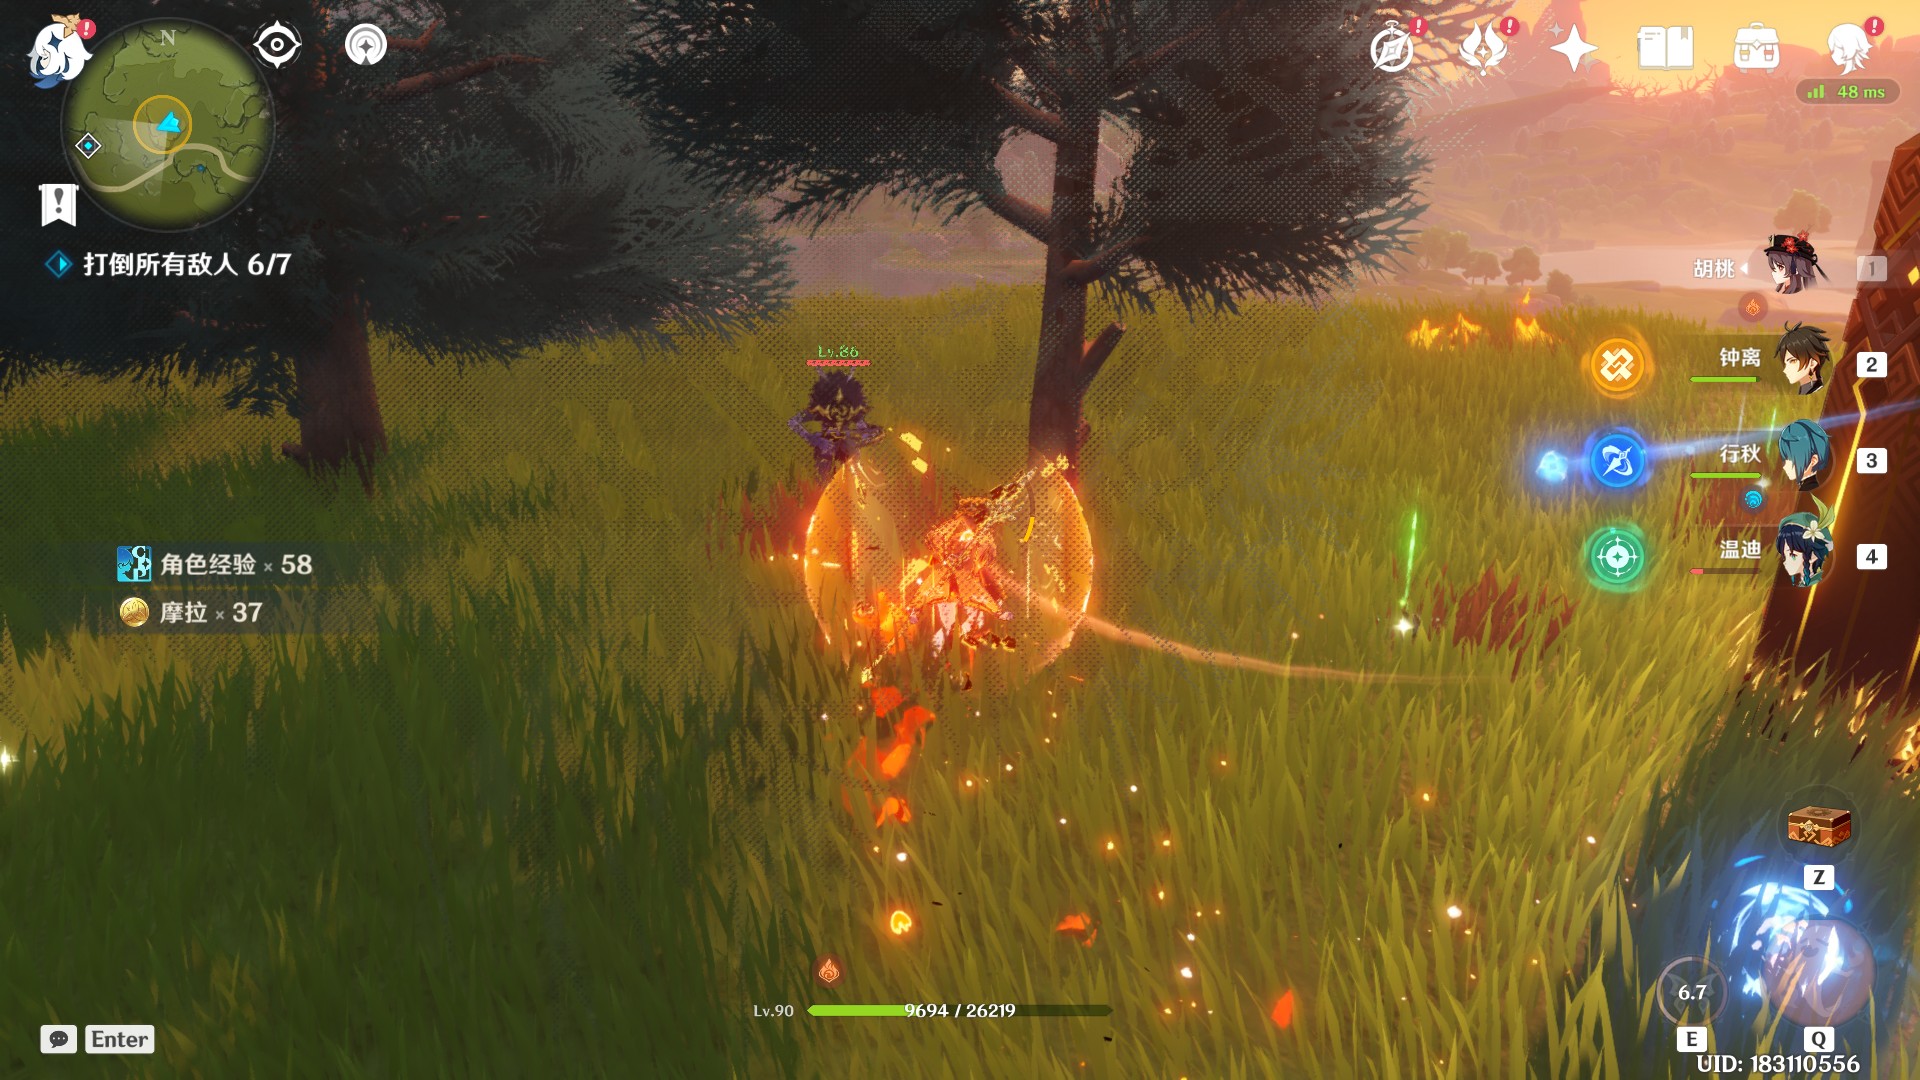character: (837, 444, 1105, 724)
hili: (762, 332, 924, 555)
